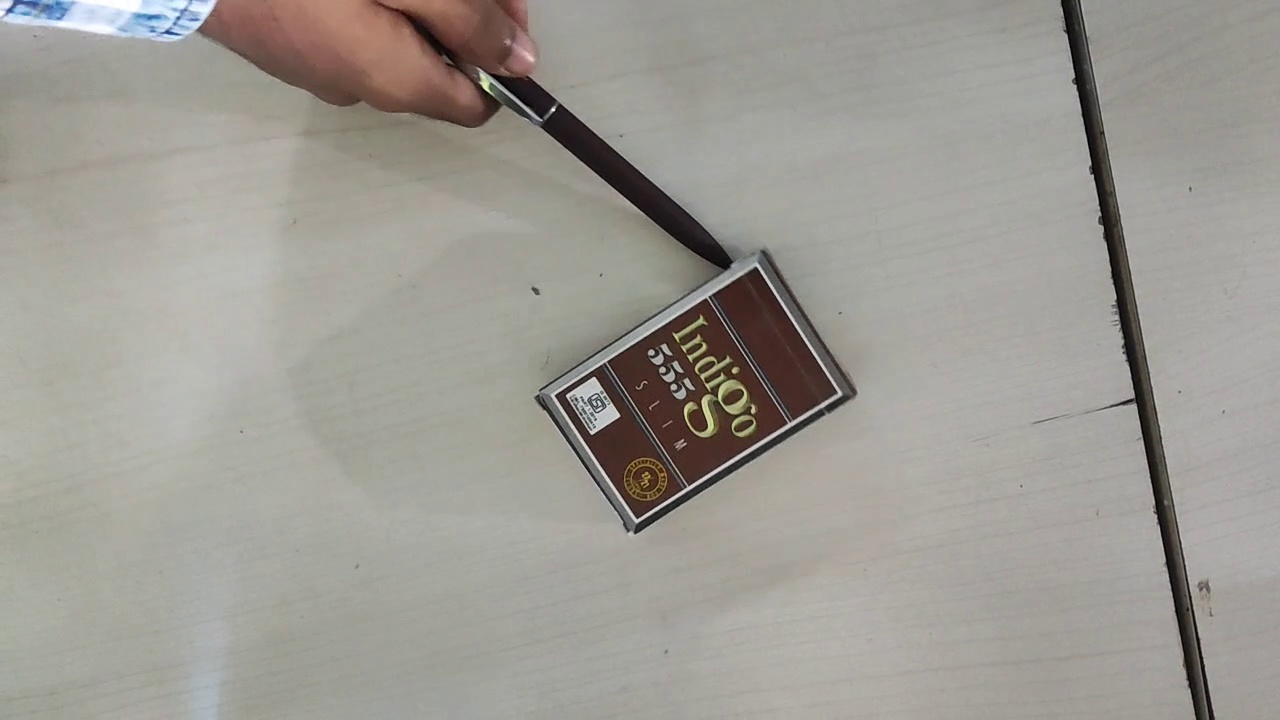BEX: (552, 264, 839, 520)
